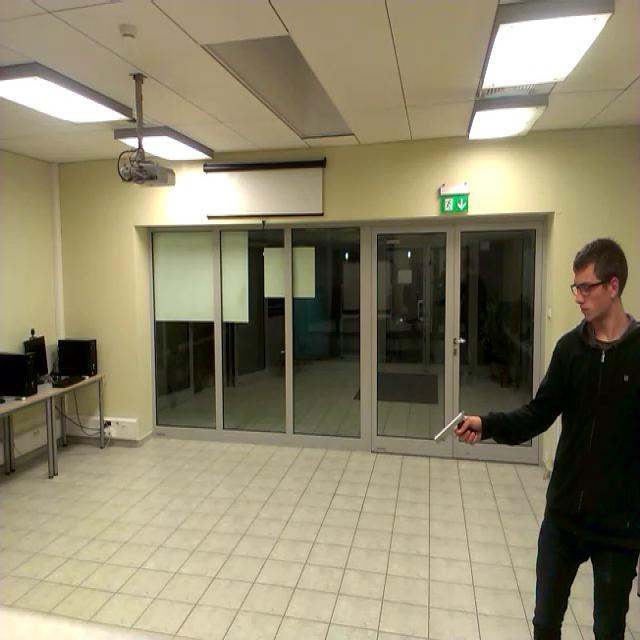Gun: (433, 410, 475, 442)
